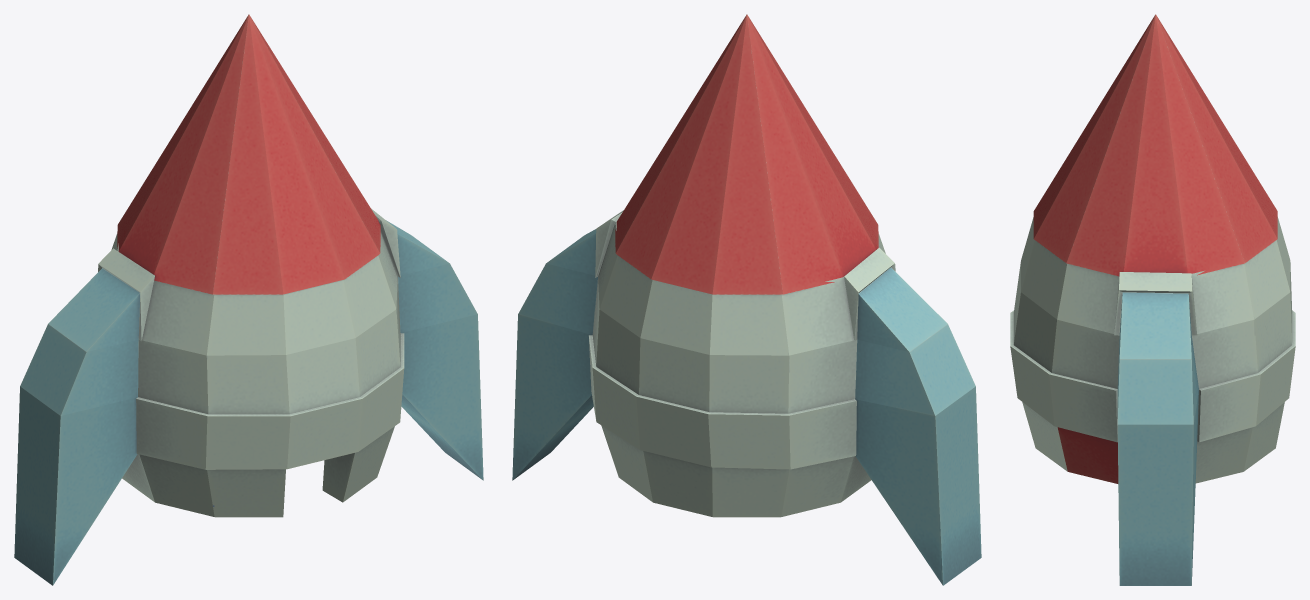
The model's file is rocket.obj.
3 renders of one model, left to right at view 1: azimuth 30°, elevation 25°; view 2: azimuth 150°, elevation 25°; view 3: azimuth 270°, elevation 25°, orthographic. The views are drawn at different scales.
Parts seen in each view (by area): view 1: tube; view 2: tube; view 3: tube.
Part boxes in pixels (box(x1,y1,x2,y2)): tube: box(14, 14, 483, 585); tube: box(512, 14, 981, 585); tube: box(1010, 14, 1295, 585).
Bounding box in the file's own units: 16 × 17.94 × 9.8.
Materials: 1 (1 with a texture image).
